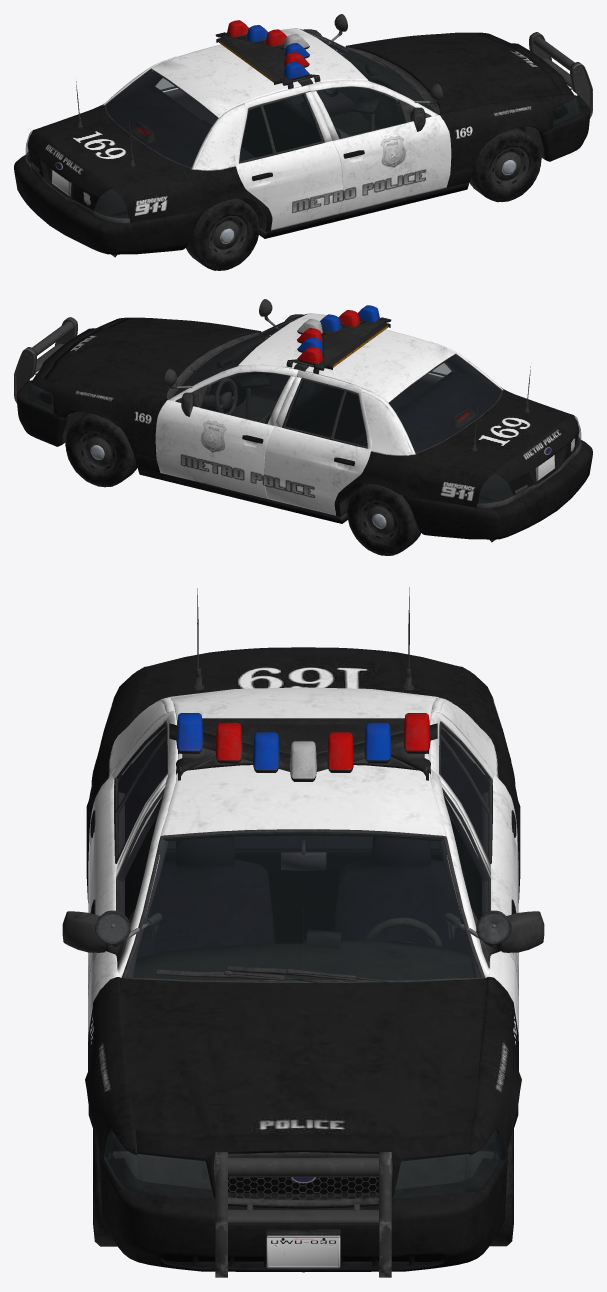
File: police_crownvic.glb
The picture shows the model from 3 angles, top to bottom: view 1: azimuth 30°, elevation 25°; view 2: azimuth 150°, elevation 25°; view 3: azimuth 270°, elevation 25°; orthographic projection. The views are drawn at different scales.
Visible parts, largest first — view 1: body, glass, body_interior_bottom, body_fs_vector, wheel_fr, wheel_rr, body_interior2, body_wheels_and_parts; view 2: body, glass, body_interior_bottom, body_fs_vector, wheel_fl, wheel_rl, body_interior2, body_wheels_and_parts; view 3: body, glass, body_interior_bottom, body_fs_vector, body_wheels_and_parts, body_interior2, body_plate, wheel_fr, wheel_fl.
Boxes of the visible parts, left/top/right/bottom form: body: left=14, top=14, right=590, bottom=254; glass: left=25, top=31, right=580, bottom=218; body_interior_bottom: left=94, top=50, right=525, bottom=257; body_fs_vector: left=215, top=20, right=320, bottom=88; wheel_fr: left=469, top=127, right=541, bottom=202; wheel_rr: left=186, top=198, right=259, bottom=270; body_interior2: left=106, top=34, right=354, bottom=125; body_wheels_and_parts: left=31, top=32, right=592, bottom=172; body: left=16, top=299, right=592, bottom=539; glass: left=26, top=316, right=581, bottom=503; body_interior_bottom: left=81, top=335, right=512, bottom=542; body_fs_vector: left=286, top=305, right=391, bottom=374; wheel_fl: left=65, top=412, right=137, bottom=487; wheel_rl: left=347, top=483, right=420, bottom=555; body_interior2: left=251, top=318, right=500, bottom=410; body_wheels_and_parts: left=14, top=317, right=551, bottom=494; body: left=62, top=647, right=544, bottom=1272; glass: left=97, top=671, right=509, bottom=1198; body_interior_bottom: left=118, top=729, right=488, bottom=980; body_fs_vector: left=169, top=713, right=437, bottom=781; body_wheels_and_parts: left=192, top=587, right=414, bottom=1277; body_interior2: left=118, top=728, right=488, bottom=977; body_plate: left=266, top=1229, right=340, bottom=1268; wheel_fr: left=93, top=1126, right=117, bottom=1246; wheel_fl: left=490, top=1126, right=513, bottom=1246.
Bounding box in the file's own units: 5.1 × 1.56 × 2.03.
7 materials, 6 textured.
